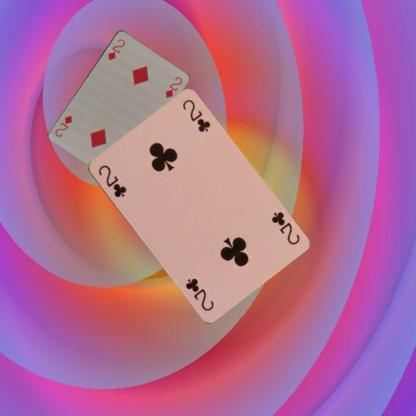2c: (95, 162, 128, 199), (268, 209, 301, 246)
2d: (105, 36, 127, 62)
